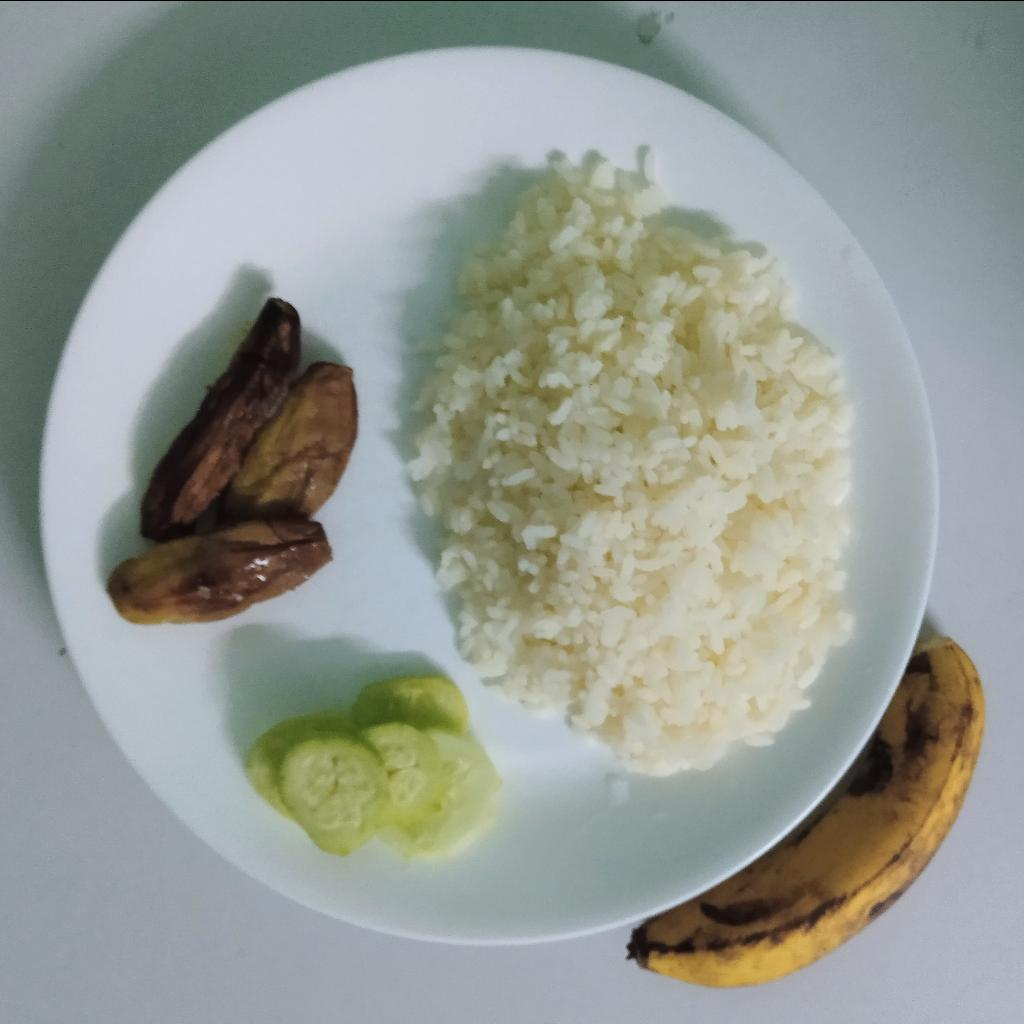banana: (628, 635, 986, 988)
cucumber: (249, 674, 504, 861)
potol: (109, 298, 360, 624)
rice: (410, 149, 851, 774)
